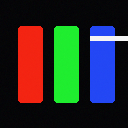3 line_h: (90, 36, 127, 40)
